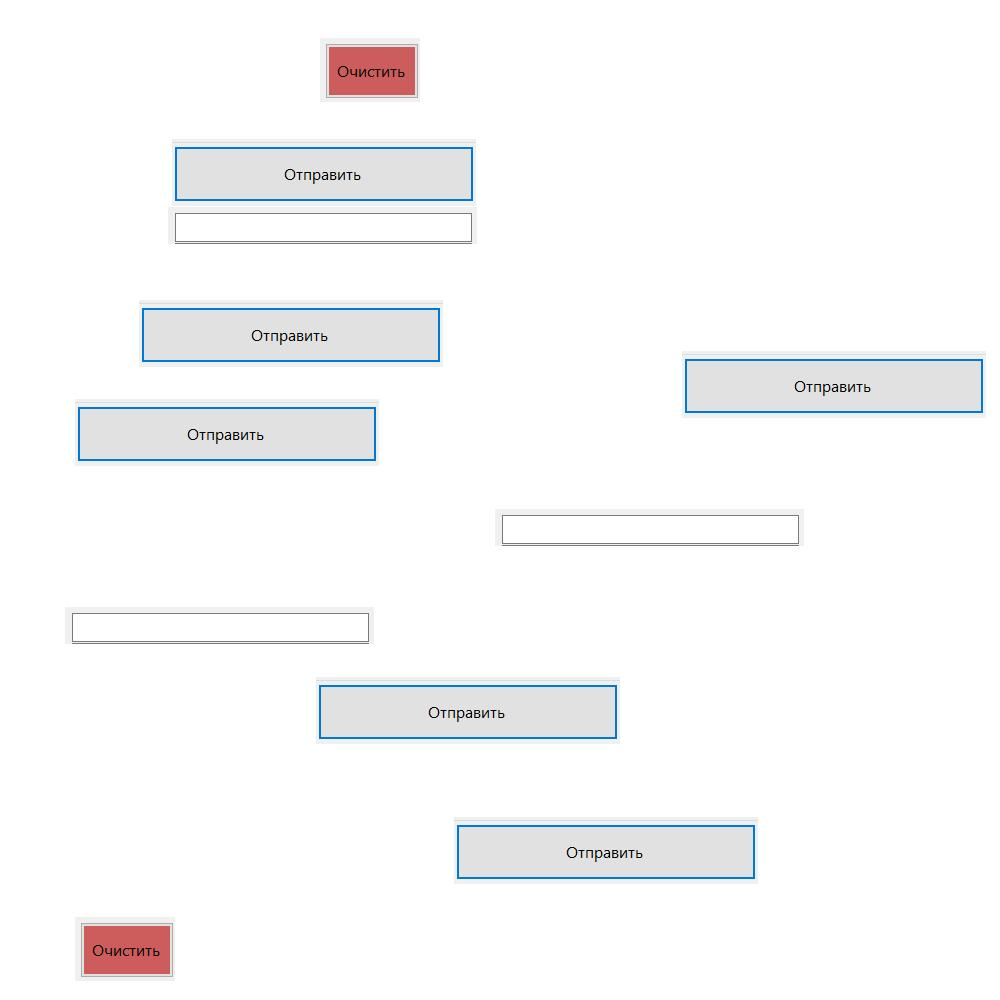Button: (139, 300, 443, 367), (682, 351, 986, 418), (316, 677, 620, 744), (75, 399, 379, 466), (454, 817, 758, 884), (172, 139, 476, 206), (75, 917, 175, 981), (320, 38, 420, 102)
EditText-: (65, 607, 374, 644), (495, 509, 804, 546), (168, 207, 477, 244)
